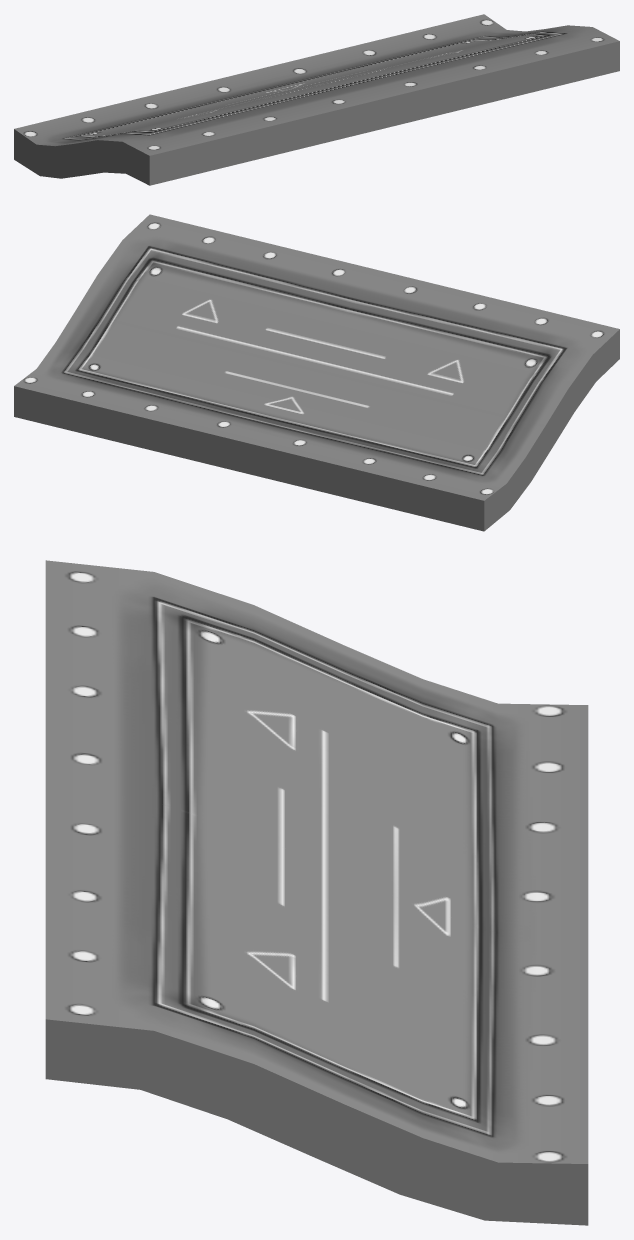
File: space_low_slope.gltf
3 renders of one model, top to bottom at view 1: azimuth 30°, elevation 25°; view 2: azimuth 150°, elevation 25°; view 3: azimuth 270°, elevation 25°, orthographic. The views are drawn at different scales.
Parts seen in each view (by area): view 1: space_low_slope_glb; view 2: space_low_slope_glb; view 3: space_low_slope_glb.
Boxes of the visible parts, x1,y1,x2,y2 form: space_low_slope_glb: (14,14,619,185); space_low_slope_glb: (14,214,619,531); space_low_slope_glb: (45,560,588,1225).
Size of what is drawn, in the model's own units: 4 by 0.8385 by 2.
1 material, 1 textured.
